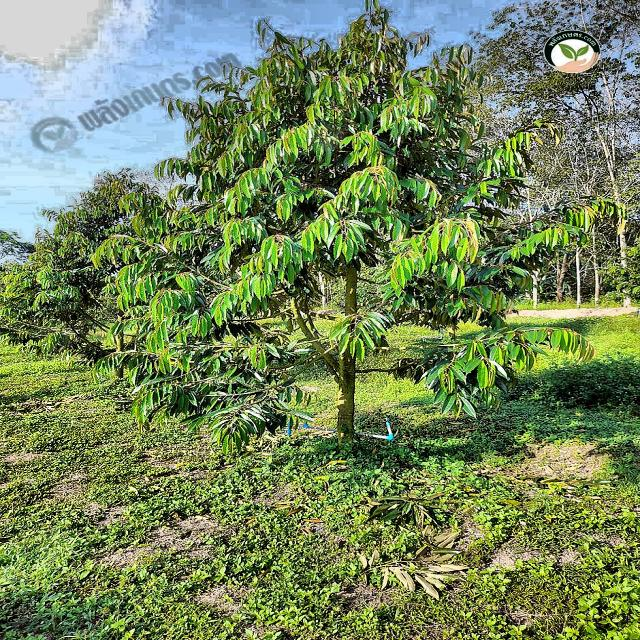arvore: (326, 212, 374, 452)
